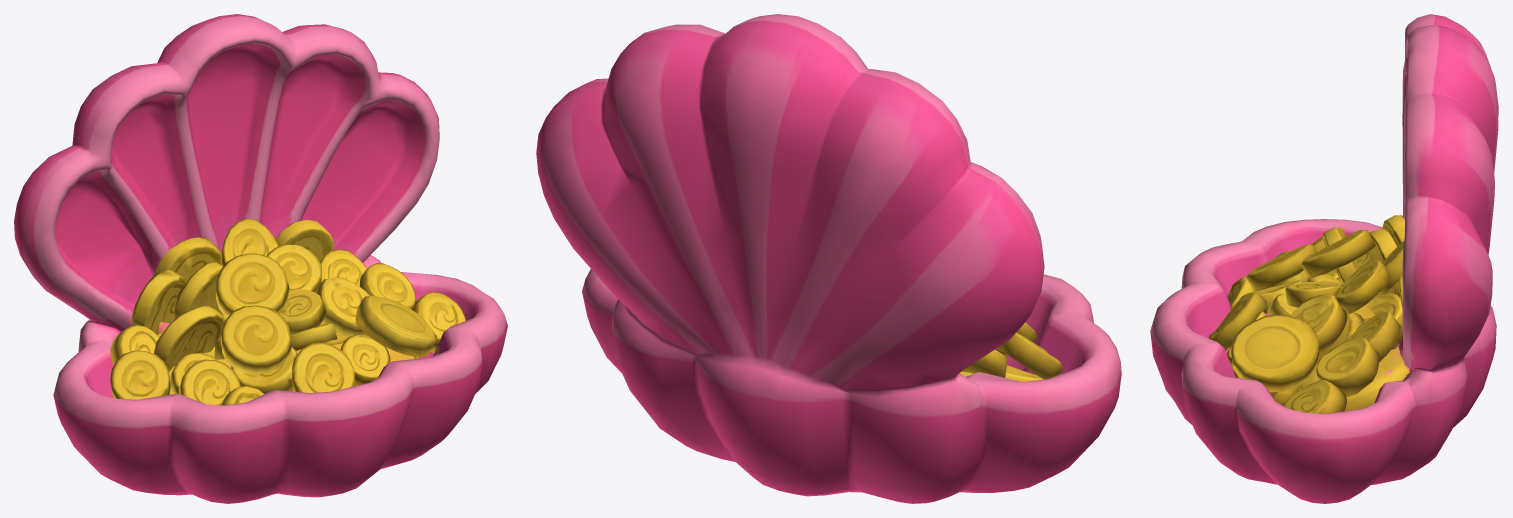
File: robux_coins_hoard.glb
The picture shows the model from 3 angles, left to right: view 1: azimuth 30°, elevation 25°; view 2: azimuth 150°, elevation 25°; view 3: azimuth 270°, elevation 25°; orthographic projection. The views are drawn at different scales.
Bounding box in the file's own units: 0.9614 × 0.856 × 0.668.
1 material, 1 textured.
